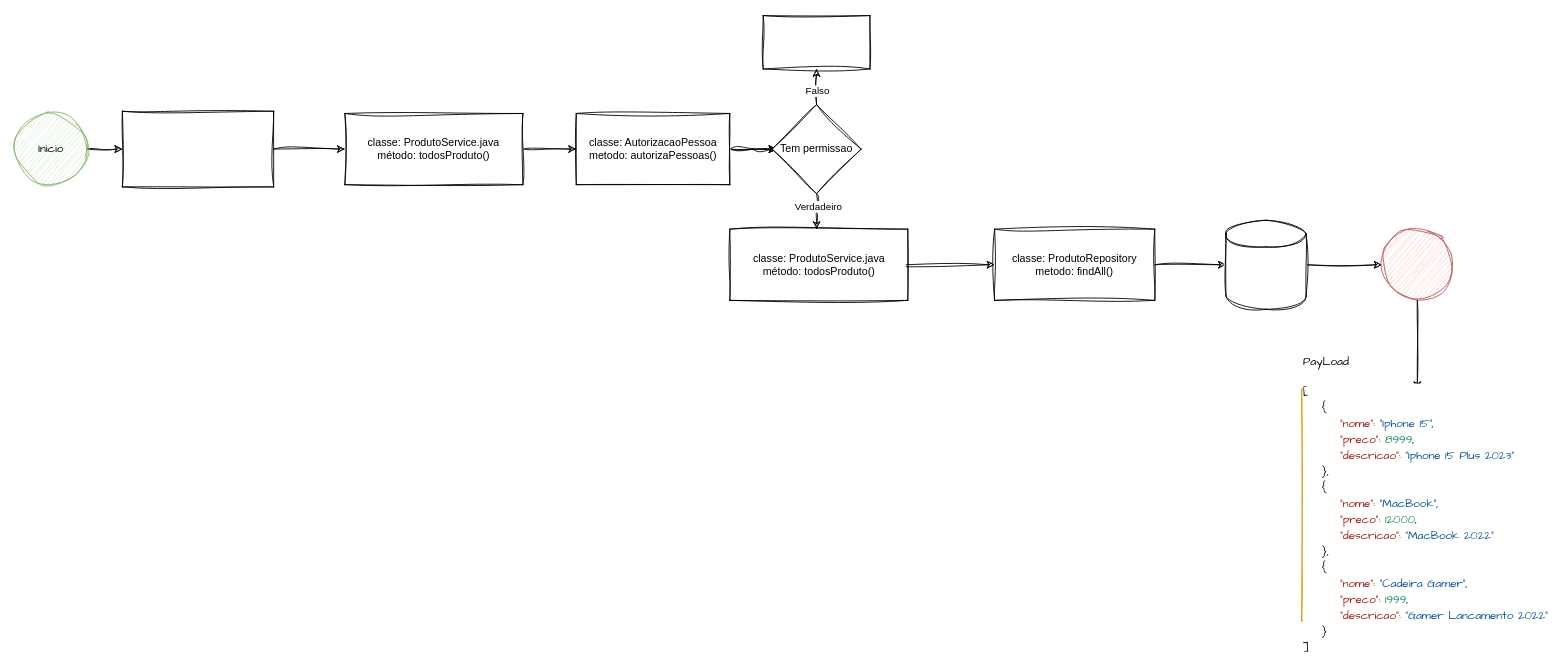
The diagram is 1564 pixels wide and 672 high, and some of its shapes have lost their labels. The shapes that lost their labels are listed below. From the top down, each one's centre as x and y in pixels, then its label:
At [816,42]: "UNAUTHORIZED".
At [197,148]: "classe: ProdutoController.java método: todosProduto()".
At [1265,264]: "autorizacao. produtos".
At [1417,264]: "fim".
